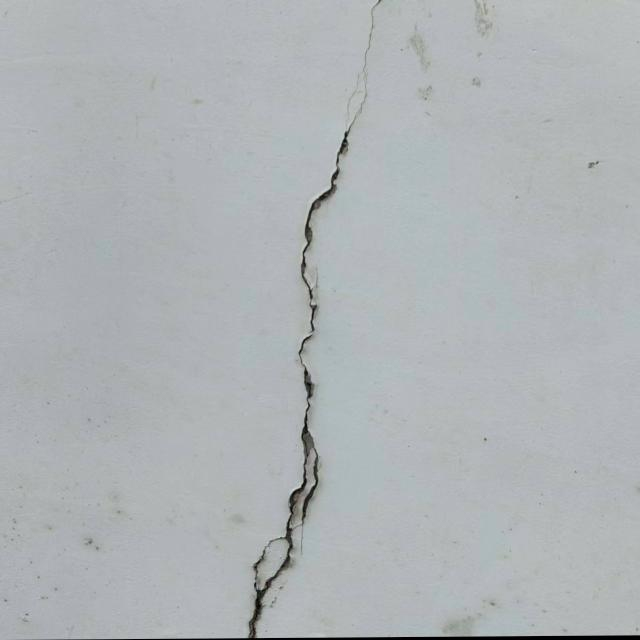crack: (242, 0, 382, 635)
